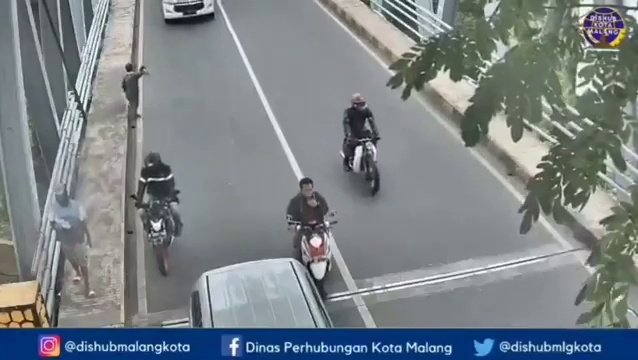motorbike: (288, 169, 336, 297), (137, 151, 184, 275), (343, 89, 384, 197)
